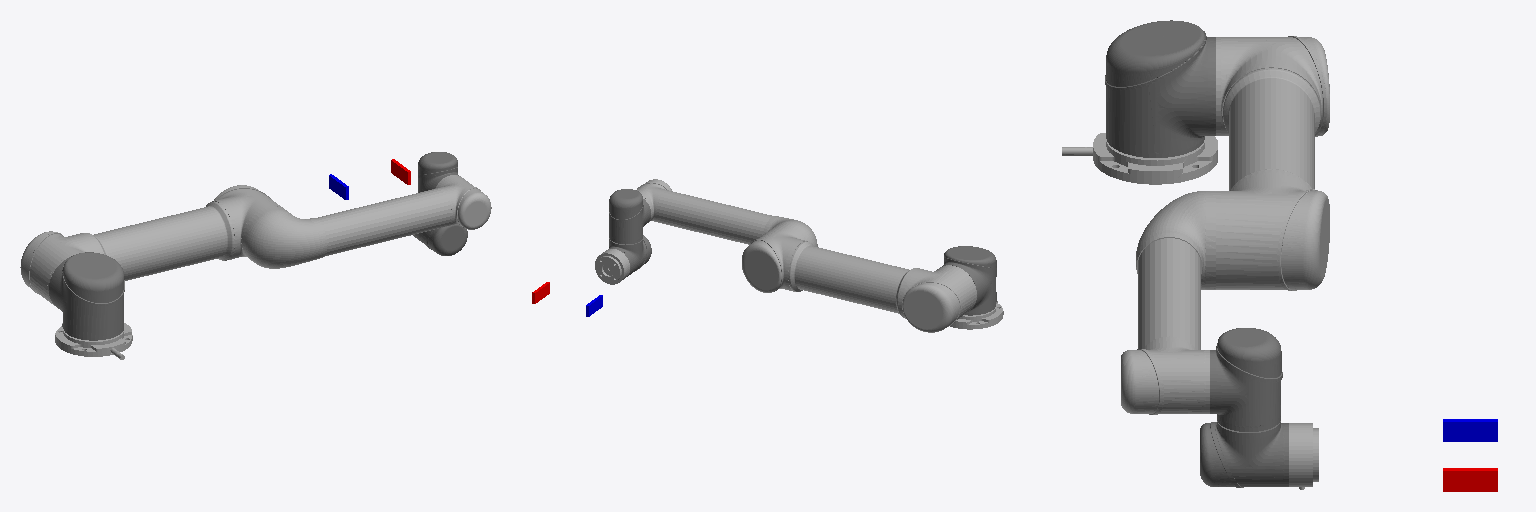
The robot description file, URDF, robot "ur5_robotiq_140":
<?xml version="1.0" ?>
<!-- =================================================================================== -->
<!-- |    This document was autogenerated by xacro from sisbot.xacro                   | -->
<!-- |    EDITING THIS FILE BY HAND IS NOT RECOMMENDED                                 | -->
<!-- =================================================================================== -->
<robot name="ur5_robotiq_140" xmlns:xacro="http://ros.org/wiki/xacro">
  <!--################################################
  ########              arm                    #######
  ####################################################-->

  <link name="base_link">
    <visual>
      <geometry>
        <mesh filename="../meshes/ur5/visual/base.obj"/>
      </geometry>
      <material name="LightGrey">
        <color rgba="0.7 0.7 0.7 1.0"/>
      </material>
    </visual>
    <collision>
      <geometry>
        <mesh filename="../meshes/ur5/collision/base.stl"/>
      </geometry>
    </collision>
    <inertial>
      <mass value="4.0"/>
      <origin rpy="0 0 0" xyz="0.0 0.0 0.0"/>
      <inertia ixx="0.00443333156" ixy="0.0" ixz="0.0" iyy="0.00443333156" iyz="0.0" izz="0.0072"/>
    </inertial>
  </link>

  <joint name="shoulder_pan_joint" type="revolute">
    <parent link="base_link"/>
    <child link="shoulder_link"/>
    <origin rpy="0.0 0.0 0.0" xyz="0.0 0.0 0.089159"/>
    <axis xyz="0 0 1"/>
    <limit effort="150.0" lower="-3.14159265359" upper="3.14159265359" velocity="3.15"/>
    <dynamics damping="0.0" friction="0.0"/>
  </joint>
  <link name="shoulder_link">
    <visual>
      <geometry>
        <mesh filename="../meshes/ur5/visual/shoulder.obj"/>
      </geometry>
      <material name="DarkGray">
        <color rgba="0.5 0.5 0.5 1.0"/>
      </material>
    </visual>
    <collision>
      <geometry>
        <mesh filename="../meshes/ur5/collision/shoulder.stl"/>
      </geometry>
    </collision>
    <inertial>
      <mass value="3.7"/>
      <origin rpy="0 0 0" xyz="0.0 0.0 0.0"/>
      <inertia ixx="0.010267495893" ixy="0.0" ixz="0.0" iyy="0.010267495893" iyz="0.0" izz="0.00666"/>
    </inertial>
  </link>
  <joint name="shoulder_lift_joint" type="revolute">
    <parent link="shoulder_link"/>
    <child link="upper_arm_link"/>
    <origin rpy="0.0 1.57079632679 0.0" xyz="0.0 0.13585 0.0"/>
    <axis xyz="0 1 0"/>
    <limit effort="150.0" lower="-3.14159265359" upper="3.14159265359" velocity="3.15"/>
    <dynamics damping="0.0" friction="0.0"/>
  </joint>
  <link name="upper_arm_link">
    <visual>
      <geometry>
        <mesh filename="../meshes/ur5/visual/upperarm.obj"/>
      </geometry>
      <material name="LightGrey">
        <color rgba="0.7 0.7 0.7 1.0"/>
      </material>
    </visual>
    <collision>
      <geometry>
        <mesh filename="../meshes/ur5/collision/upperarm.stl"/>
      </geometry>
    </collision>
    <inertial>
      <mass value="8.393"/>
      <origin rpy="0 0 0" xyz="0.0 0.0 0.28"/>
      <inertia ixx="0.22689067591" ixy="0.0" ixz="0.0" iyy="0.22689067591" iyz="0.0" izz="0.0151074"/>
    </inertial>
  </link>
  <joint name="elbow_joint" type="revolute">
    <parent link="upper_arm_link"/>
    <child link="forearm_link"/>
    <origin rpy="0.0 0.0 0.0" xyz="0.0 -0.1197 0.425"/>
    <axis xyz="0 1 0"/>
    <limit effort="150.0" lower="-3.14159265359" upper="3.14159265359" velocity="3.15"/>
    <dynamics damping="0.0" friction="0.0"/>
  </joint>
  <link name="forearm_link">
    <visual>
      <geometry>
        <mesh filename="../meshes/ur5/visual/forearm.obj"/>
      </geometry>
      <material name="LightGrey">
        <color rgba="0.7 0.7 0.7 1.0"/>
      </material>
    </visual>
    <collision>
      <geometry>
        <mesh filename="../meshes/ur5/collision/forearm.stl"/>
      </geometry>
    </collision>
    <inertial>
      <mass value="2.275"/>
      <origin rpy="0 0 0" xyz="0.0 0.0 0.25"/>
      <inertia ixx="0.049443313556" ixy="0.0" ixz="0.0" iyy="0.049443313556" iyz="0.0" izz="0.004095"/>
    </inertial>
  </link>
  <joint name="wrist_1_joint" type="revolute">
    <parent link="forearm_link"/>
    <child link="wrist_1_link"/>
    <origin rpy="0.0 1.57079632679 0.0" xyz="0.0 0.0 0.39225"/>
    <axis xyz="0 1 0"/>
    <limit effort="28.0" lower="-3.14159265359" upper="3.14159265359" velocity="3.2"/>
    <dynamics damping="0.0" friction="0.0"/>
  </joint>
  <link name="wrist_1_link">
    <visual>
      <geometry>
        <mesh filename="../meshes/ur5/visual/wrist1.obj"/>
      </geometry>
      <material name="DarkGray">
        <color rgba="0.5 0.5 0.5 1.0"/>
      </material>
    </visual>
    <collision>
      <geometry>
        <mesh filename="../meshes/ur5/collision/wrist1.stl"/>
      </geometry>
    </collision>
    <inertial>
      <mass value="1.219"/>
      <origin rpy="0 0 0" xyz="0.0 0.0 0.0"/>
      <inertia ixx="0.111172755531" ixy="0.0" ixz="0.0" iyy="0.111172755531" iyz="0.0" izz="0.21942"/>
    </inertial>
  </link>
  <joint name="wrist_2_joint" type="revolute">
    <parent link="wrist_1_link"/>
    <child link="wrist_2_link"/>
    <origin rpy="0.0 0.0 0.0" xyz="0.0 0.093 0.0"/>
    <axis xyz="0 0 1"/>
    <limit effort="28.0" lower="-3.14159265359" upper="3.14159265359" velocity="3.2"/>
    <dynamics damping="0.0" friction="0.0"/>
  </joint>
  <link name="wrist_2_link">
    <visual>
      <geometry>
        <mesh filename="../meshes/ur5/visual/wrist2.obj"/>
      </geometry>
      <material name="DarkGray">
        <color rgba="0.5 0.5 0.5 1.0"/>
      </material>
    </visual>
    <collision>
      <geometry>
        <mesh filename="../meshes/ur5/collision/wrist2.stl"/>
      </geometry>
    </collision>
    <inertial>
      <mass value="1.219"/>
      <origin rpy="0 0 0" xyz="0.0 0.0 0.0"/>
      <inertia ixx="0.111172755531" ixy="0.0" ixz="0.0" iyy="0.111172755531" iyz="0.0" izz="0.21942"/>
    </inertial>
  </link>
  <joint name="wrist_3_joint" type="revolute">
    <parent link="wrist_2_link"/>
    <child link="wrist_3_link"/>
    <origin rpy="0.0 0.0 0.0" xyz="0.0 0.0 0.09465"/>
    <axis xyz="0 1 0"/>
    <limit effort="28.0" lower="-3.14159265359" upper="3.14159265359" velocity="3.2"/>
    <dynamics damping="0.0" friction="0.0"/>
  </joint>
  <link name="wrist_3_link">
    <visual>
      <geometry>
        <mesh filename="../meshes/ur5/visual/wrist3.obj"/>
      </geometry>
      <material name="LightGrey">
        <color rgba="0.7 0.7 0.7 1.0"/>
      </material>
    </visual>
    <collision>
      <geometry>
        <mesh filename="../meshes/ur5/collision/wrist3.stl"/>
      </geometry>
    </collision>
    <inertial>
      <mass value="0.1879"/>
      <origin rpy="0 0 0" xyz="0.0 0.0 0.0"/>
      <inertia ixx="0.0171364731454" ixy="0.0" ixz="0.0" iyy="0.0171364731454" iyz="0.0" izz="0.033822"/>
    </inertial>
  </link>
  <joint name="ee_fixed_joint" type="fixed">
    <parent link="wrist_3_link"/>
    <child link="ee_link"/>
    <origin rpy="0.0 0.0 1.57079632679" xyz="0.0 0.0823 0.0"/>
  </joint>
  <link name="ee_link">
    <collision>
      <geometry>
        <box size="0.01 0.01 0.01"/>
      </geometry>
      <origin rpy="0 0 0" xyz="-0.01 0 0"/>
    </collision>
  </link>

  <!--################################################
  ########              gripper                  #####
  ####################################################-->

  <link name="robotiq_arg2f_base_link">
    <inertial>
      <origin rpy="0 0 0" xyz="8.625E-08 -4.6583E-06 0.03145"/>
      <mass value="0.22652"/>
      <inertia ixx="0.00020005" ixy="-4.2442E-10" ixz="-2.9069E-10" iyy="0.00017832" iyz="-3.4402E-08" izz="0.00013478"/>
    </inertial>
    <visual>
      <origin rpy="0 0 0" xyz="0 0 0"/>
      <geometry>
        <mesh filename="../meshes/robotiq_140/visual/robotiq_arg2f_base_link.stl"/>
      </geometry>
      <material name="">
        <color rgba="0.1 0.1 0.1 1"/>
      </material>
    </visual>
    <collision>
      <origin rpy="0 0 0" xyz="0 0 0"/>
      <geometry>
        <mesh filename="../meshes/robotiq_140/collision/robotiq_arg2f_base_link.stl"/>
      </geometry>
    </collision>
  </link>
  <link name="left_outer_knuckle">
    <inertial>
      <origin rpy="0 0 0" xyz="-0.000200000000003065 0.0199435877845359 0.0292245259211331"/>
      <mass value="0.00853198276973456"/>
      <inertia ixx="2.89328108496468E-06" ixy="-1.57935047237397E-19" ixz="-1.93980378593255E-19" iyy="1.86719750325683E-06" iyz="-1.21858577871576E-06" izz="1.21905238907251E-06"/>
    </inertial>
    <visual>
      <origin rpy="0 0 0" xyz="0 0 0"/>
      <geometry>
        <mesh filename="../meshes/robotiq_140/visual/robotiq_arg2f_140_outer_knuckle.stl"/>
      </geometry>
      <material name="">
        <color rgba="0.792156862745098 0.819607843137255 0.933333333333333 0.1"/>
      </material>
    </visual>
    <collision>
      <origin rpy="0 0 0" xyz="0 0 0"/>
      <geometry>
        <mesh filename="../meshes/robotiq_140/collision/robotiq_arg2f_140_outer_knuckle.stl"/>
      </geometry>
    </collision>
  </link>
  <link name="left_outer_finger">
    <inertial>
      <origin rpy="0 0 0" xyz="0.00030115855001899 0.0373907951953854 -0.0208027427000385"/>
      <mass value="0.022614240507152"/>
      <inertia ixx="1.52518312458174E-05" ixy="9.76583423954399E-10" ixz="-5.43838577022588E-10" iyy="6.17694243867776E-06" iyz="6.78636130740228E-06" izz="1.16494917907219E-05"/>
    </inertial>
    <visual>
      <origin rpy="0 0 0" xyz="0 0 0"/>
      <geometry>
        <mesh filename="../meshes/robotiq_140/visual/robotiq_arg2f_140_outer_finger.stl"/>
      </geometry>
      <material name="">
        <color rgba="0.1 0.1 0.1 0.2"/>
      </material>
    </visual>
    <collision>
      <origin rpy="0 0 0" xyz="0 0 0"/>
      <geometry>
        <mesh filename="../meshes/robotiq_140/collision/robotiq_arg2f_140_outer_finger.stl"/>
      </geometry>
    </collision>
  </link>
  <link name="left_inner_finger">
    <inertial>
      <origin rpy="0 0 0" xyz="0.000299999999999317 0.0160078233491243 -0.0136945669206257"/>
      <mass value="0.0104003125914103"/>
      <inertia ixx="2.71909453810972E-06" ixy="1.35402465472579E-21" ixz="-7.1817349065269E-22" iyy="7.69100314106116E-07" iyz="6.74715432769696E-07" izz="2.30315190420171E-06"/>
    </inertial>
    <visual>
      <origin rpy="0 0 0" xyz="0 0 0"/>
      <geometry>
        <mesh filename="../meshes/robotiq_140/visual/robotiq_arg2f_140_inner_finger.stl"/>
      </geometry>
      <material name="">
        <color rgba="0.1 0.1 0.1 0.3"/>
      </material>
    </visual>
    <collision>
      <origin rpy="0 0 0" xyz="0 0 0"/>
      <geometry>
        <mesh filename="../meshes/robotiq_140/collision/robotiq_arg2f_140_inner_finger.stl"/>
      </geometry>
    </collision>
  </link>
  <link name="left_inner_finger_pad">
    <inertial>
      <mass value="1."/>
      <inertia ixx="1E-10" ixy="1E-10" ixz="1E-10" iyy="1E-10" iyz="1E-10" izz="1E-10"/>
    </inertial>

    <visual>
      <origin rpy="0 0 0" xyz="0 0 0"/>
      <geometry>
        <box size="0.027 0.065 0.0075"/>
      </geometry>
      <material name="">
        <color rgba="0 0 1 1"/>
      </material>
    </visual>
    <collision>
      <origin rpy="0 0 0" xyz="0 0 0"/>
      <geometry>
        <box size="0.03 0.07 0.0075"/>
      </geometry>
      <material name="">
        <color rgba="0.9 0.0 0.0 1"/>
      </material>
    </collision>
  </link>
  <link name="left_inner_knuckle">
    <inertial>
      <origin rpy="0 0 0" xyz="0.000123011831763771 0.0507850843201817 0.00103968640075166"/>
      <mass value="0.0271177346495152"/>
      <inertia ixx="2.61910379223783E-05" ixy="-2.43616858946494E-07" ixz="-6.37789906117123E-09" iyy="2.8270243746167E-06" iyz="-5.37200748039765E-07" izz="2.83695868220296E-05"/>
    </inertial>
    <visual>
      <origin rpy="0 0 0" xyz="0 0 0"/>
      <geometry>
        <mesh filename="../meshes/robotiq_140/visual/robotiq_arg2f_140_inner_knuckle.stl"/>
      </geometry>
      <material name="">
        <color rgba="0.1 0.1 0.1 1"/>
      </material>
    </visual>
    <collision>
      <origin rpy="0 0 0" xyz="0 0 0"/>
      <geometry>
        <mesh filename="../meshes/robotiq_140/collision/robotiq_arg2f_140_inner_knuckle.stl"/>
      </geometry>
    </collision>
  </link>
  <link name="right_outer_knuckle">
    <inertial>
      <origin rpy="0 0 0" xyz="-0.000200000000003065 0.0199435877845359 0.0292245259211331"/>
      <mass value="0.00853198276973456"/>
      <inertia ixx="2.89328108496468E-06" ixy="-1.57935047237397E-19" ixz="-1.93980378593255E-19" iyy="1.86719750325683E-06" iyz="-1.21858577871576E-06" izz="1.21905238907251E-06"/>
    </inertial>
    <visual>
      <origin rpy="0 0 0" xyz="0 0 0"/>
      <geometry>
        <mesh filename="../meshes/robotiq_140/visual/robotiq_arg2f_140_outer_knuckle.stl"/>
      </geometry>
      <material name="">
        <color rgba="0.792156862745098 0.819607843137255 0.933333333333333 1"/>
      </material>
    </visual>
    <collision>
      <origin rpy="0 0 0" xyz="0 0 0"/>
      <geometry>
        <mesh filename="../meshes/robotiq_140/collision/robotiq_arg2f_140_outer_knuckle.stl"/>
      </geometry>
    </collision>
  </link>
  <link name="right_outer_finger">
    <inertial>
      <origin rpy="0 0 0" xyz="0.00030115855001899 0.0373907951953854 -0.0208027427000385"/>
      <mass value="0.022614240507152"/>
      <inertia ixx="1.52518312458174E-05" ixy="9.76583423954399E-10" ixz="-5.43838577022588E-10" iyy="6.17694243867776E-06" iyz="6.78636130740228E-06" izz="1.16494917907219E-05"/>
    </inertial>
    <visual>
      <origin rpy="0 0 0" xyz="0 0 0"/>
      <geometry>
        <mesh filename="../meshes/robotiq_140/visual/robotiq_arg2f_140_outer_finger.stl"/>
      </geometry>
      <material name="">
        <color rgba="0.1 0.1 0.1 1"/>
      </material>
    </visual>
    <collision>
      <origin rpy="0 0 0" xyz="0 0 0"/>
      <geometry>
        <mesh filename="../meshes/robotiq_140/collision/robotiq_arg2f_140_outer_finger.stl"/>
      </geometry>
    </collision>
  </link>
  <link name="right_inner_finger">
    <inertial>
      <origin rpy="0 0 0" xyz="0.000299999999999317 0.0160078233491243 -0.0136945669206257"/>
      <mass value="0.0104003125914103"/>
      <inertia ixx="2.71909453810972E-06" ixy="1.35402465472579E-21" ixz="-7.1817349065269E-22" iyy="7.69100314106116E-07" iyz="6.74715432769696E-07" izz="2.30315190420171E-06"/>
    </inertial>
    <visual>
      <origin rpy="0 0 0" xyz="0 0 0"/>
      <geometry>
        <mesh filename="../meshes/robotiq_140/visual/robotiq_arg2f_140_inner_finger.stl"/>
      </geometry>
      <material name="">
        <color rgba="0.1 0.1 0.1 1"/>
      </material>
    </visual>
    <collision>
      <origin rpy="0 0 0" xyz="0 0 0"/>
      <geometry>
        <mesh filename="../meshes/robotiq_140/collision/robotiq_arg2f_140_inner_finger.stl"/>
      </geometry>
    </collision>
  </link>
  <link name="right_inner_finger_pad">
    <inertial>
      <mass value="1."/>
      <inertia ixx="1E-10" ixy="1E-10" ixz="1E-10" iyy="1E-10" iyz="1E-10" izz="1E-10"/>
    </inertial>

    <visual>
      <origin rpy="0 0 0" xyz="0 0 0"/>
      <geometry>
        <box size="0.027 0.065 0.0075"/>
      </geometry>
      <material name="">
        <color rgba="1 0 0 1"/>
      </material>
    </visual>
    <collision>
      <origin rpy="0 0 0" xyz="0 0 0"/>
      <geometry>
        <box size="0.03 0.07 0.0075"/>
      </geometry>
      <material name="">
        <color rgba="0.9 0.0 0.0 1"/>
      </material>
    </collision>
  </link>
  <link name="right_inner_knuckle">
    <inertial>
      <origin rpy="0 0 0" xyz="0.000123011831763771 0.0507850843201817 0.00103968640075166"/>
      <mass value="0.0271177346495152"/>
      <inertia ixx="2.61910379223783E-05" ixy="-2.43616858946494E-07" ixz="-6.37789906117123E-09" iyy="2.8270243746167E-06" iyz="-5.37200748039765E-07" izz="2.83695868220296E-05"/>
    </inertial>
    <visual>
      <origin rpy="0 0 0" xyz="0 0 0"/>
      <geometry>
        <mesh filename="../meshes/robotiq_140/visual/robotiq_arg2f_140_inner_knuckle.stl"/>
      </geometry>
      <material name="">
        <color rgba="0.1 0.1 0.1 1"/>
      </material>
    </visual>
    <collision>
      <origin rpy="0 0 0" xyz="0 0 0"/>
      <geometry>
        <mesh filename="../meshes/robotiq_140/collision/robotiq_arg2f_140_inner_knuckle.stl"/>
      </geometry>
    </collision>
  </link>
  <joint name="finger_joint" type="revolute">
    <origin rpy="2.2957963267948966 0 0" xyz="0 -0.030601 0.054905"/>
    <parent link="robotiq_arg2f_base_link"/>
    <child link="left_outer_knuckle"/>
    <axis xyz="-1 0 0"/>
    <limit effort="1000" lower="0" upper="0.7" velocity="2.0"/>
  </joint>
  <joint name="left_outer_finger_joint" type="fixed">
    <origin rpy="0 0 0" xyz="0 0.01821998610742 0.0260018192872234"/>
    <parent link="left_outer_knuckle"/>
    <child link="left_outer_finger"/>
    <axis xyz="1 0 0"/>
  </joint>
  <joint name="left_inner_knuckle_joint" type="revolute">
    <origin rpy="2.2957963267948966 0 0.0" xyz="0 -0.0127 0.06142"/>
    <parent link="robotiq_arg2f_base_link"/>
    <child link="left_inner_knuckle"/>
    <axis xyz="1 0 0"/>
    <limit effort="1000" upper="0" lower="-0.8757" velocity="2.0"/>
    <mimic joint="finger_joint" multiplier="-1" offset="0"/>
  </joint>
  <joint name="left_inner_finger_joint" type="revolute">
    <origin rpy="-0.725 0 0" xyz="0 0.0817554015893473 -0.0282203446692936"/>
    <parent link="left_outer_finger"/>
    <child link="left_inner_finger"/>
    <axis xyz="1 0 0"/>
    <limit effort="1000" lower="0" upper="0.8757" velocity="2.0"/>
    <mimic joint="finger_joint" multiplier="1" offset="0"/>
  </joint>
  <joint name="left_inner_finger_pad_joint" type="fixed">
    <origin rpy="0 0 0" xyz="0 0.0457554015893473 -0.0272203446692936"/>
    <parent link="left_inner_finger"/>
    <child link="left_inner_finger_pad"/>
    <axis xyz="0 0 1"/>
  </joint>
  <joint name="right_outer_knuckle_joint" type="revolute">
    <origin rpy="2.2957963267948966 0 3.141592653589793" xyz="0 0.030601 0.054905"/>
    <parent link="robotiq_arg2f_base_link"/>
    <child link="right_outer_knuckle"/>
    <axis xyz="1 0 0"/>
    <limit effort="1000" upper="0" lower="-0.725" velocity="2.0"/>
    <mimic joint="finger_joint" multiplier="-1" offset="0"/>
  </joint>
  <joint name="right_outer_finger_joint" type="fixed">
    <origin rpy="0 0 0" xyz="0 0.01821998610742 0.0260018192872234"/>
    <parent link="right_outer_knuckle"/>
    <child link="right_outer_finger"/>
    <axis xyz="1 0 0"/>
  </joint>
  <joint name="right_inner_knuckle_joint" type="revolute">
    <origin rpy="2.2957963267948966 0 -3.141592653589793" xyz="0 0.0127 0.06142"/>
    <parent link="robotiq_arg2f_base_link"/>
    <child link="right_inner_knuckle"/>
    <axis xyz="1 0 0"/>
    <limit effort="1000" upper="0" lower="-0.8757" velocity="2.0"/>
    <mimic joint="finger_joint" multiplier="-1" offset="0"/>
  </joint>
  <joint name="right_inner_finger_joint" type="revolute">
    <origin rpy="-0.725 0 0" xyz="0 0.0817554015893473 -0.0282203446692936"/>
    <parent link="right_outer_finger"/>
    <child link="right_inner_finger"/>
    <axis xyz="1 0 0"/>
    <limit effort="1000" lower="0" upper="0.8757" velocity="2.0"/>
    <mimic joint="finger_joint" multiplier="1" offset="0"/>
  </joint>
  <joint name="right_inner_finger_pad_joint" type="fixed">
    <origin rpy="0 0 0" xyz="0 0.0457554015893473 -0.0272203446692936"/>
    <parent link="right_inner_finger"/>
    <child link="right_inner_finger_pad"/>
    <axis xyz="0 0 1"/>
  </joint>
<!--  <transmission name="finger_joint_trans">-->
<!--    <type>transmission_interface/SimpleTransmission</type>-->
<!--    <joint name="finger_joint">-->
<!--      <hardwareInterface>PositionJointInterface</hardwareInterface>-->
<!--    </joint>-->
<!--    <actuator name="finger_joint_motor">-->
<!--      <mechanicalReduction>1</mechanicalReduction>-->
<!--    </actuator>-->
<!--  </transmission>-->

<!--################################################
  ########          connect model                #####
  ####################################################-->

  <link name="world"/>
  <!-- connect gripper to arm -->
  <joint name="arm_gripper_joint" type="fixed">
    <parent link="ee_link"/>
    <child link="robotiq_arg2f_base_link"/>
    <origin rpy="-1.57 1.57 -1.57" xyz="0.0 0.0 0.0"/>
  </joint>

  <!-- connect arm to world -->
  <joint name="world_arm_joint" type="fixed">
    <parent link="world"/>
    <child link="base_link"/>
    <origin rpy="0.0 0.0 0" xyz="0 0 0.78"/>
  </joint>


</robot>

--- What the picture shows (computed from the rendered views, not written in the file) ---
Views: 3 orthographic renders of the robot side by side, from view 1: azimuth 30°, elevation 25°; view 2: azimuth 150°, elevation 25°; view 3: azimuth 270°, elevation 25°.
Robot: ur5_robotiq_140 — 20 links, 19 joints (12 revolute, 7 fixed); root link world; default pose: all joints at 0.
Links seen in each view (by area): view 1: upper_arm_link, forearm_link, shoulder_link, base_link, wrist_1_link, wrist_2_link; view 2: upper_arm_link, forearm_link, shoulder_link, wrist_1_link, wrist_3_link, wrist_2_link, base_link; view 3: upper_arm_link, forearm_link, shoulder_link, wrist_1_link, wrist_2_link, base_link, wrist_3_link, right_inner_finger_pad, left_inner_finger_pad.
Boxes of the visible links, left/top/right/bottom form: upper_arm_link: left=20, top=185, right=283, bottom=305; forearm_link: left=243, top=175, right=491, bottom=268; shoulder_link: left=49, top=252, right=124, bottom=340; base_link: left=55, top=323, right=132, bottom=359; wrist_1_link: left=418, top=152, right=458, bottom=192; wrist_2_link: left=413, top=224, right=467, bottom=255; upper_arm_link: left=742, top=225, right=976, bottom=332; forearm_link: left=637, top=179, right=817, bottom=246; shoulder_link: left=942, top=246, right=996, bottom=315; wrist_1_link: left=609, top=189, right=650, bottom=244; wrist_3_link: left=595, top=249, right=629, bottom=284; wrist_2_link: left=609, top=235, right=651, bottom=276; base_link: left=950, top=301, right=1003, bottom=329; upper_arm_link: left=1216, top=36, right=1329, bottom=290; forearm_link: left=1121, top=191, right=1215, bottom=414; shoulder_link: left=1105, top=20, right=1215, bottom=157; wrist_1_link: left=1210, top=328, right=1282, bottom=431; wrist_2_link: left=1200, top=421, right=1288, bottom=487; base_link: left=1062, top=133, right=1217, bottom=184; wrist_3_link: left=1289, top=423, right=1318, bottom=489; right_inner_finger_pad: left=1443, top=468, right=1497, bottom=491; left_inner_finger_pad: left=1443, top=419, right=1497, bottom=441.
Bounding box of the posed robot: 0.9624 × 0.5109 × 0.2062 m (x, y, z).
Meshes: 12 distinct files referenced, 7 mesh visuals loaded (7 OBJ); not drawn: 9 (reference not matched to a file when rendering).